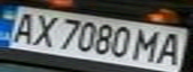0: (109, 24, 136, 60), (75, 18, 96, 54)
7: (51, 16, 81, 52)
8: (93, 21, 115, 56)
A: (151, 30, 190, 65), (3, 9, 42, 44)
M: (130, 27, 166, 63)
X: (24, 11, 63, 48)
